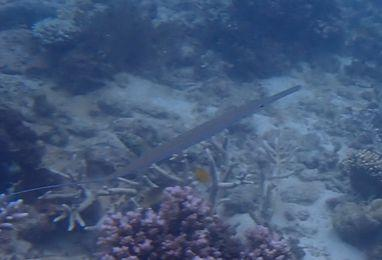Fistularia commersonii: (71, 78, 311, 188)
